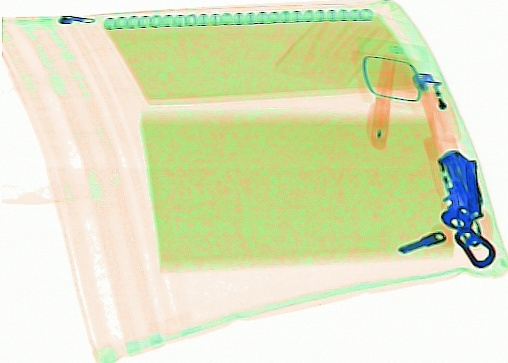lighter: (410, 70, 460, 143), (421, 132, 461, 211)
